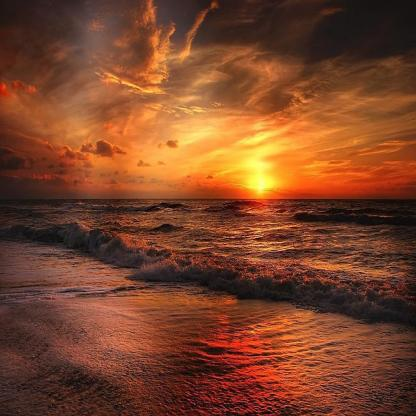other: (215, 117, 296, 198)
